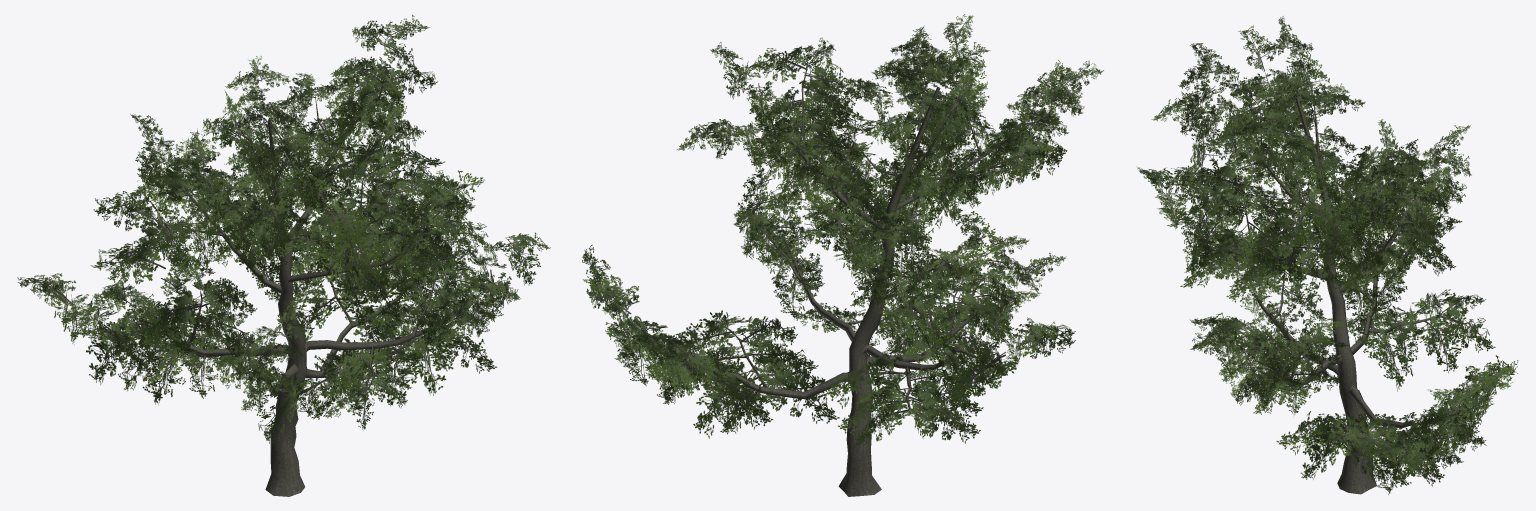
The model's file is oak_big_2.glb.
3 renders of one model, left to right at view 1: azimuth 30°, elevation 25°; view 2: azimuth 150°, elevation 25°; view 3: azimuth 270°, elevation 25°, orthographic. The views are drawn at different scales.
Visible parts, largest first — view 1: Big_oak_tree__001_LOD1; view 2: Big_oak_tree__001_LOD1; view 3: Big_oak_tree__001_LOD1.
Boxes of the visible parts, box(x1,y1,x2,y2) form: Big_oak_tree__001_LOD1: box(17, 14, 550, 496); Big_oak_tree__001_LOD1: box(582, 14, 1103, 496); Big_oak_tree__001_LOD1: box(1137, 16, 1518, 494).
Size of the model in its own units: 20.51 by 19.46 by 15.65.
Materials: 2 (2 with a texture image).
